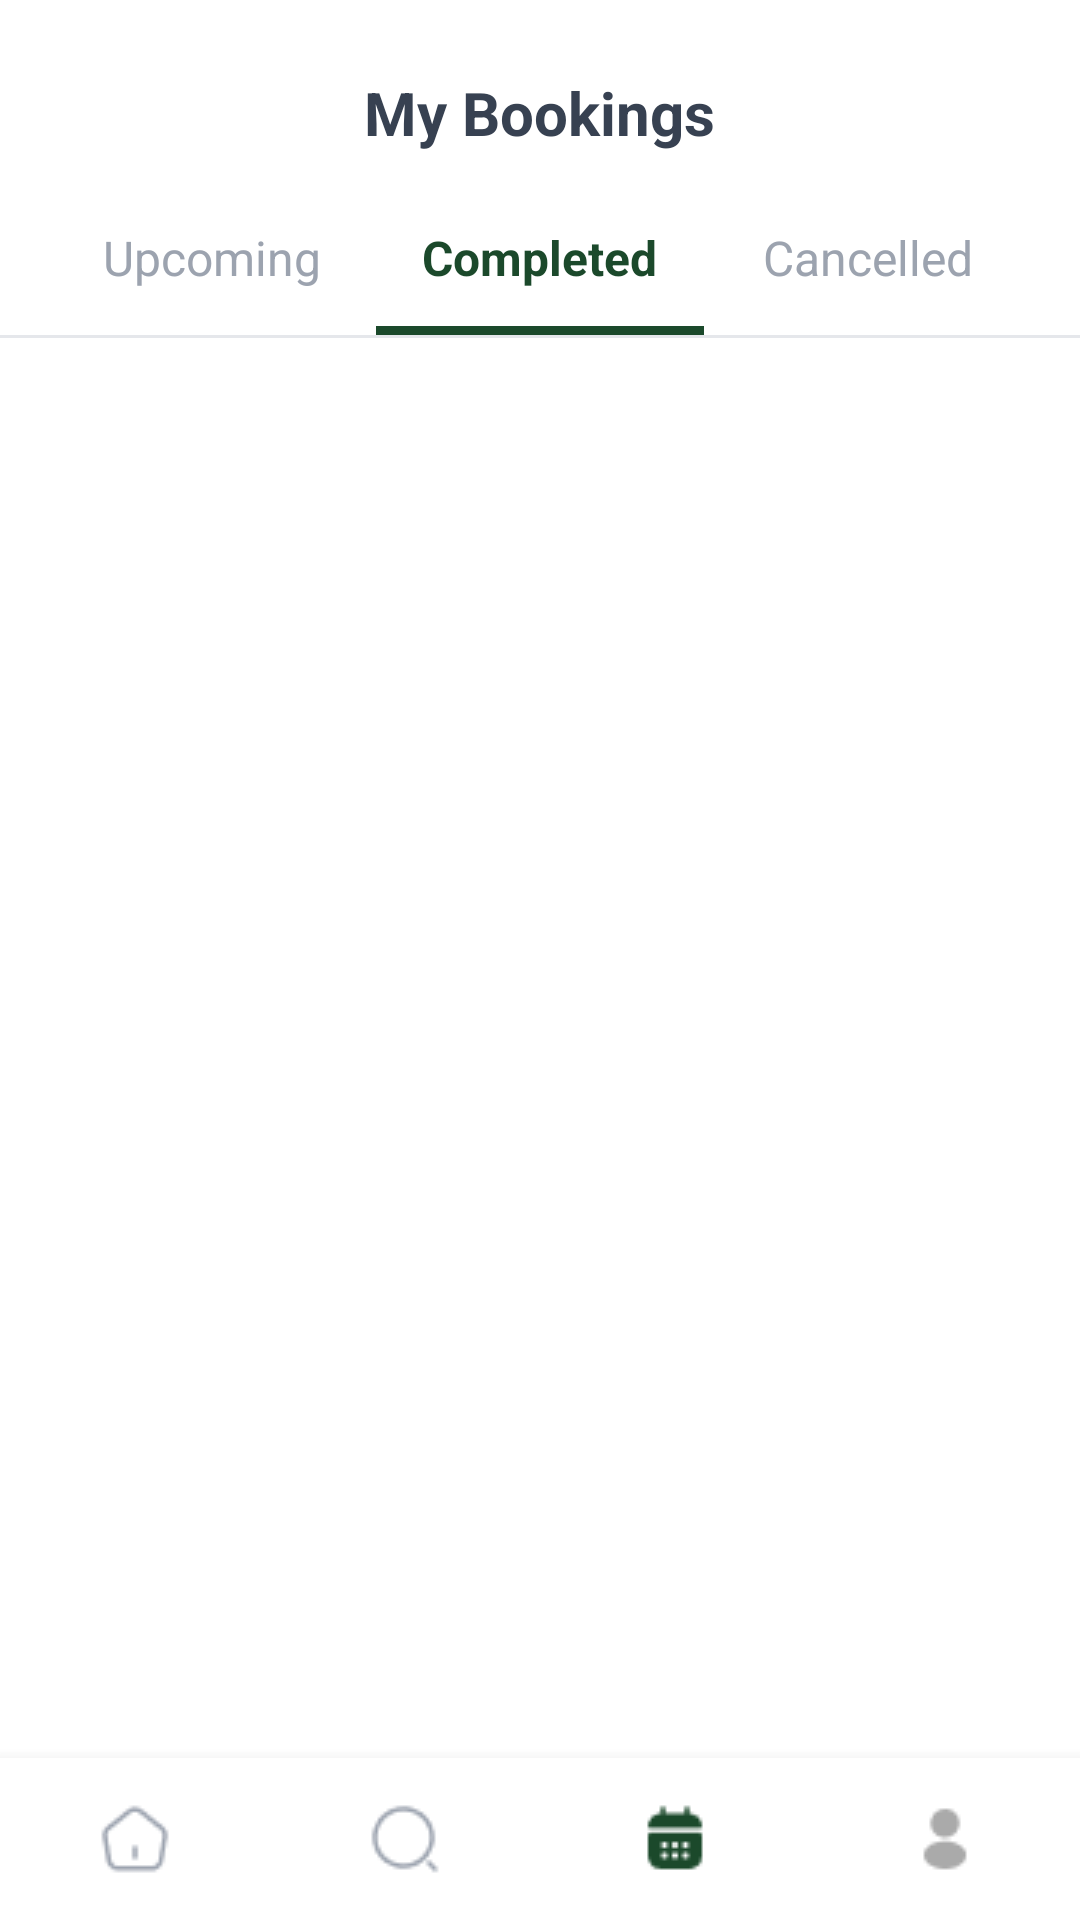

Screen size 1080 × 1920. Icon name, then its center in pixels as (x=x, y=y):
calendar: (x=675, y=1837)
home: (x=135, y=1839)
profile: (x=945, y=1839)
search: (x=404, y=1838)
